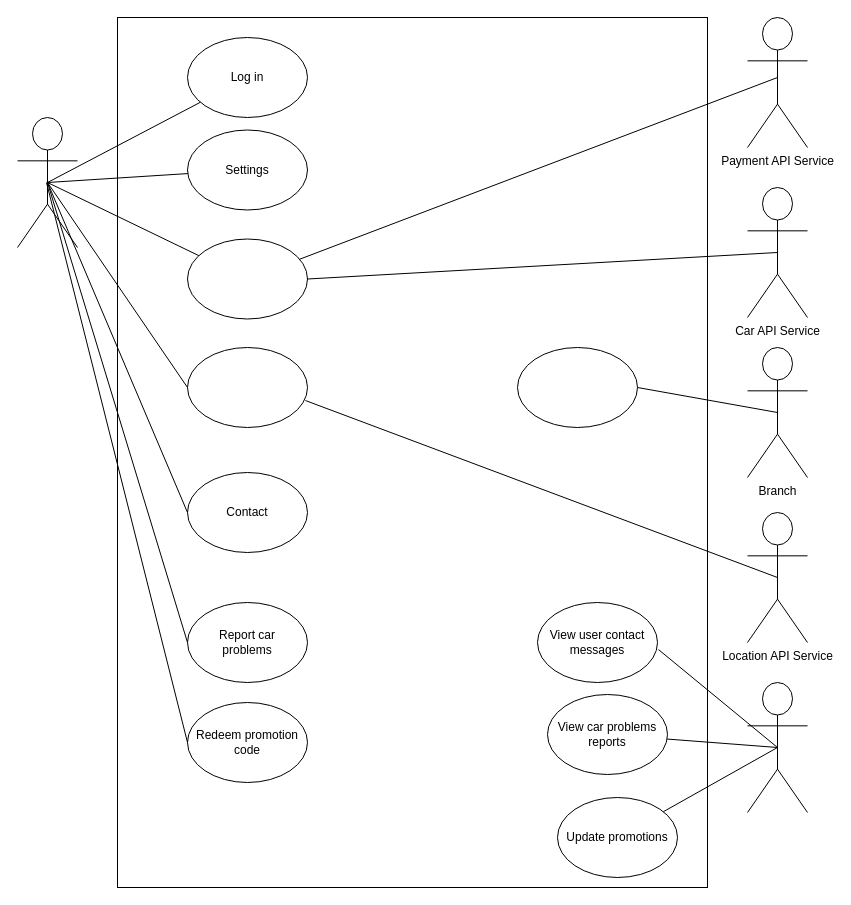
Image size: 851x905. Some labels were removed from this diagram. The centre of each missing label's shape, as x and y in pixels:
"Admin" belongs at point 777,747.
"Find Stores" belongs at point 247,387.
"Rent a car" belongs at point 247,278.
"User" belongs at point 47,182.
"View car rental reports" belongs at point 577,387.
